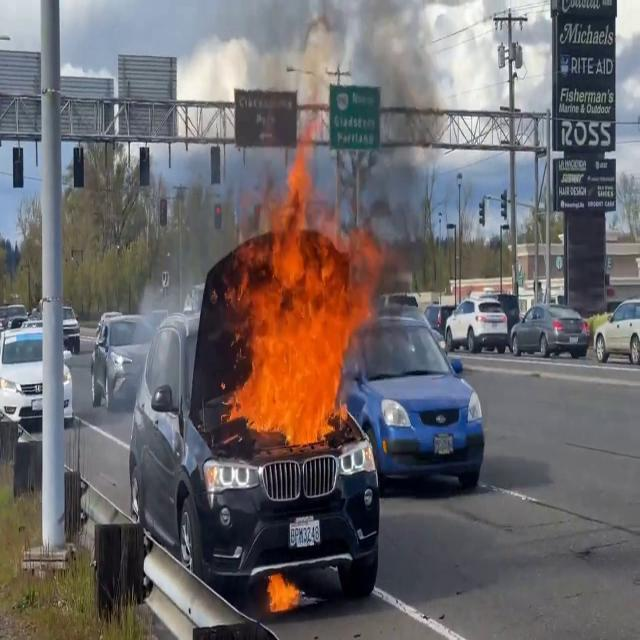Fire: (222, 132, 370, 446), (262, 568, 304, 620)
Smoke: (300, 0, 432, 236)
